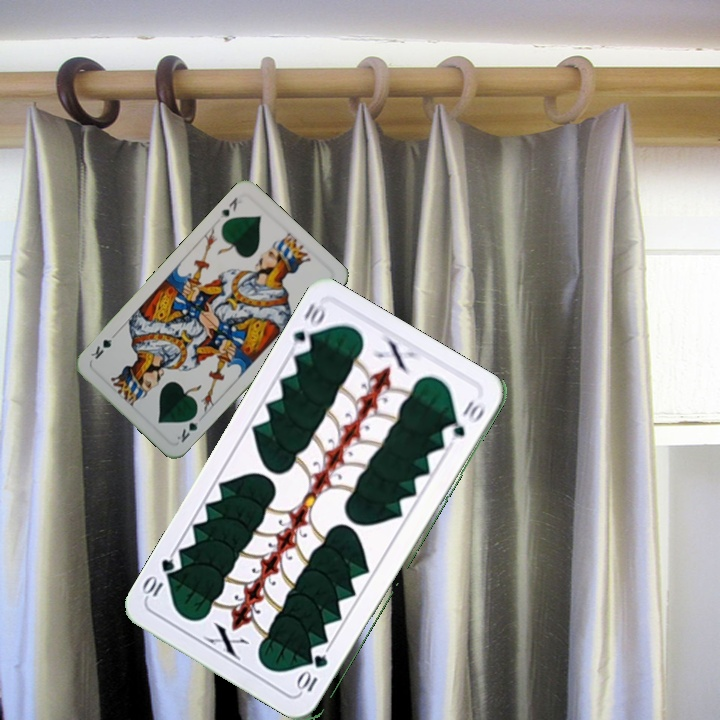G10: (286, 298, 329, 358), (296, 651, 331, 695)
GK: (173, 409, 201, 445), (216, 193, 240, 221)
